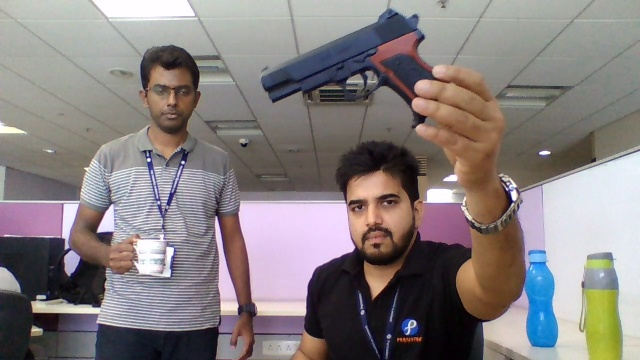gun: (260, 8, 431, 78)
